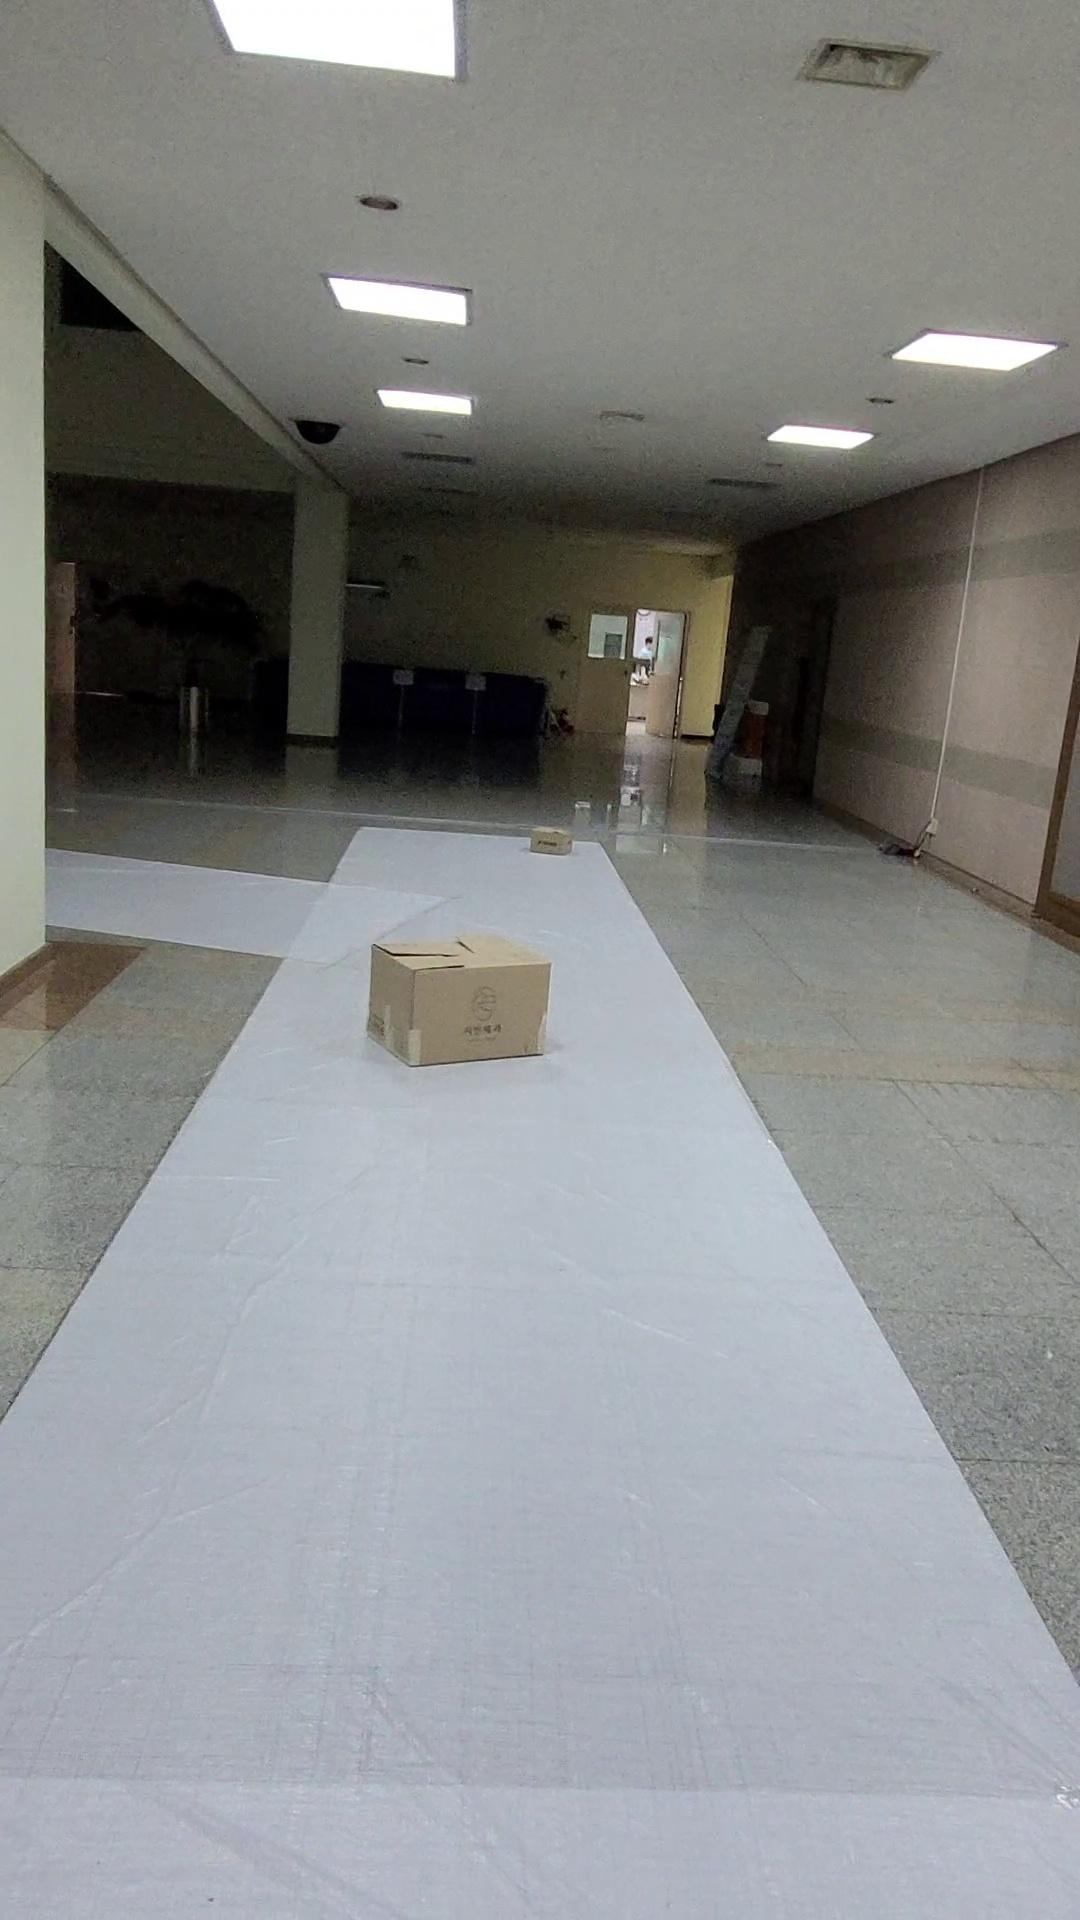Box: (351, 910, 574, 1092), (502, 803, 580, 876)
